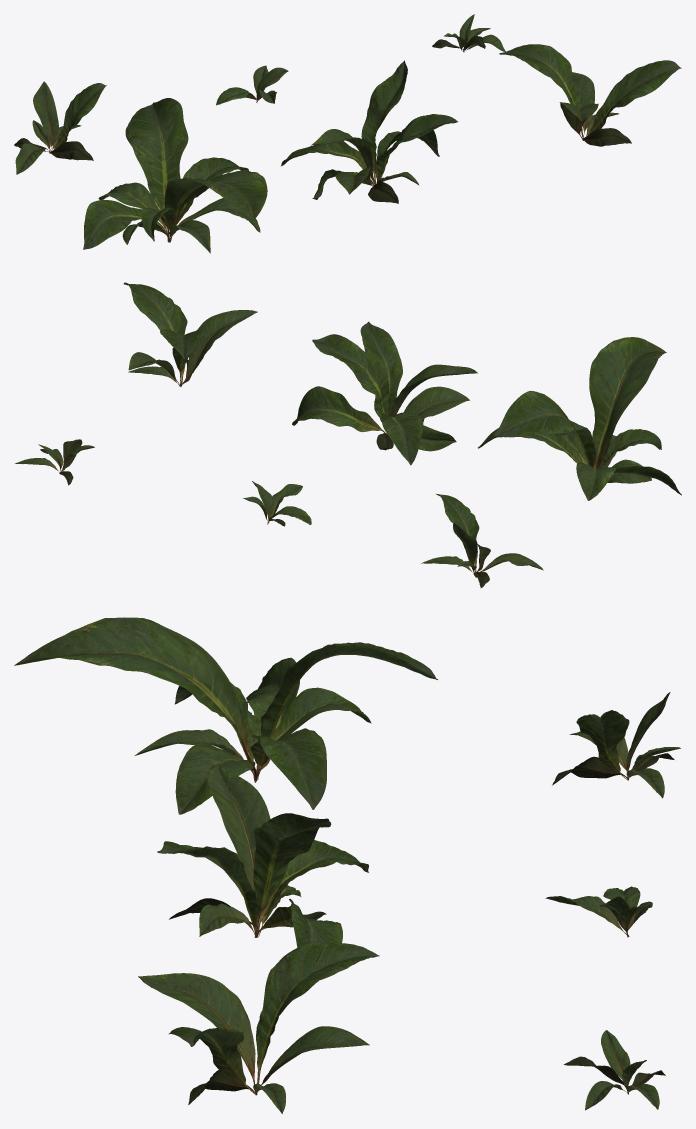
Rendered from anthurium_botany_01.glb.
3 views of the same model, one above another, from view 1: azimuth 30°, elevation 25°; view 2: azimuth 150°, elevation 25°; view 3: azimuth 270°, elevation 25° (orthographic). The views are drawn at different scales.
Parts seen in each view (by area): view 1: anthurium_botany_01_a, anthurium_botany_01_b, anthurium_botany_01_c, anthurium_botany_04_d, anthurium_botany_05_e, anthurium_botany_06_f; view 2: anthurium_botany_01_a, anthurium_botany_01_b, anthurium_botany_01_c, anthurium_botany_04_d, anthurium_botany_05_e, anthurium_botany_06_f; view 3: anthurium_botany_01_a, anthurium_botany_01_b, anthurium_botany_01_c, anthurium_botany_04_d, anthurium_botany_06_f, anthurium_botany_05_e.
Boxes of the visible parts, left/top/right/bottom form: anthurium_botany_01_a: left=83, top=98, right=267, bottom=253; anthurium_botany_01_b: left=281, top=60, right=457, bottom=203; anthurium_botany_01_c: left=499, top=44, right=681, bottom=146; anthurium_botany_04_d: left=14, top=81, right=106, bottom=174; anthurium_botany_05_e: left=216, top=65, right=288, bottom=105; anthurium_botany_06_f: left=432, top=14, right=505, bottom=52; anthurium_botany_01_a: left=478, top=337, right=681, bottom=500; anthurium_botany_01_b: left=292, top=321, right=477, bottom=465; anthurium_botany_01_c: left=123, top=282, right=257, bottom=386; anthurium_botany_04_d: left=421, top=494, right=543, bottom=588; anthurium_botany_05_e: left=243, top=481, right=311, bottom=526; anthurium_botany_06_f: left=15, top=439, right=94, bottom=485; anthurium_botany_01_a: left=14, top=617, right=437, bottom=814; anthurium_botany_01_b: left=157, top=763, right=368, bottom=981; anthurium_botany_01_c: left=138, top=942, right=379, bottom=1113; anthurium_botany_04_d: left=552, top=692, right=680, bottom=798; anthurium_botany_06_f: left=563, top=1030, right=665, bottom=1110; anthurium_botany_05_e: left=545, top=886, right=652, bottom=937.
Bounding box in the file's own units: 2.8 × 0.4997 × 1.8.
1 material, 1 textured.
